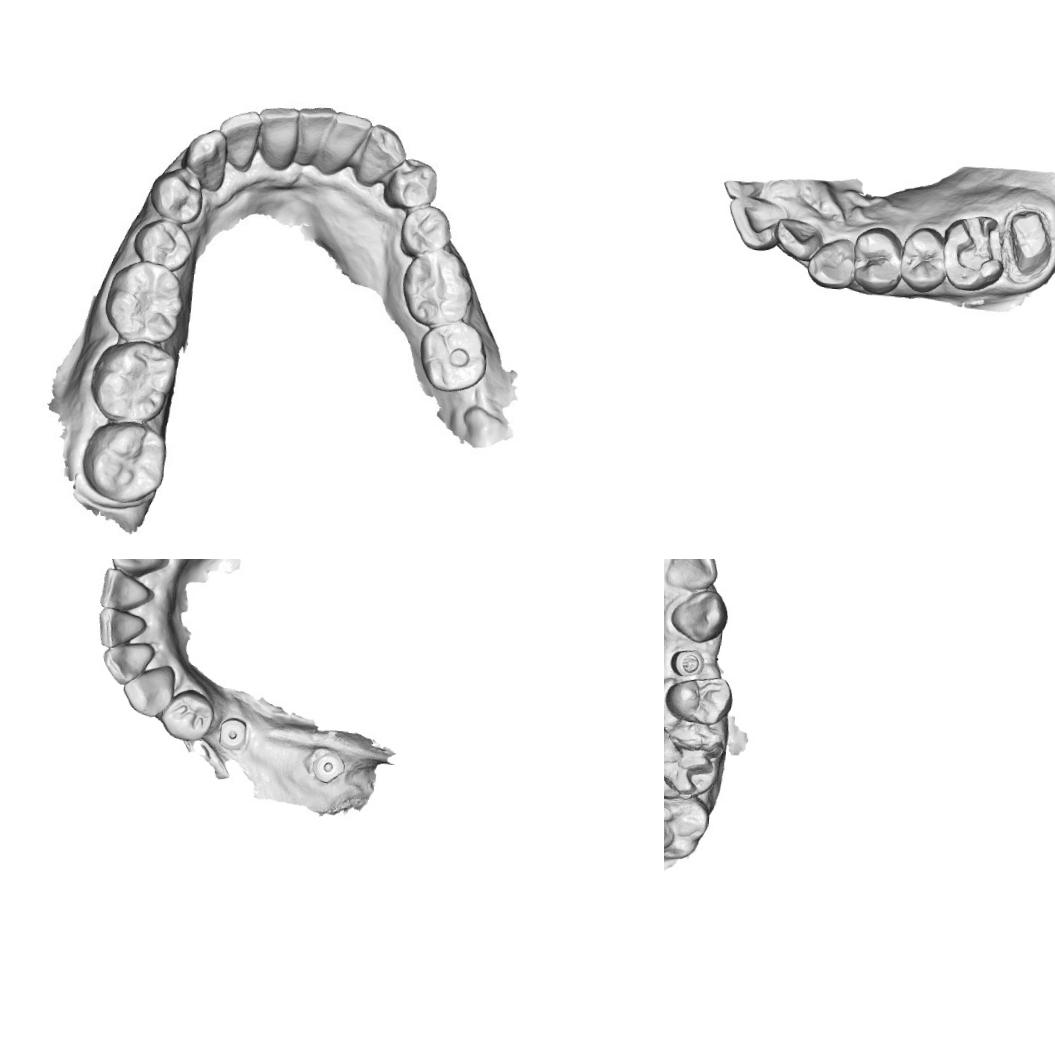canine: (352, 119, 410, 189), (667, 586, 730, 645), (118, 659, 176, 720), (180, 128, 232, 192), (805, 233, 858, 291), (106, 559, 171, 579)
crown: (1001, 204, 1055, 278)
implant: (308, 748, 346, 786), (216, 714, 249, 753), (668, 646, 707, 678)
incisor: (724, 194, 792, 253), (100, 637, 156, 688), (95, 566, 156, 612), (324, 110, 366, 175), (296, 104, 335, 171), (218, 111, 262, 170), (94, 604, 148, 652), (771, 214, 824, 262), (259, 106, 300, 168), (664, 559, 720, 593)
inlay: (664, 726, 724, 800), (951, 214, 1006, 279)
molar: (85, 421, 167, 507), (92, 338, 170, 421), (108, 260, 180, 346), (404, 248, 477, 328), (416, 322, 488, 398), (664, 792, 710, 862)
premolar: (848, 224, 906, 296), (664, 672, 734, 728), (896, 224, 950, 294), (156, 684, 216, 746), (150, 164, 206, 226), (401, 202, 457, 258), (136, 216, 192, 270), (388, 158, 437, 208)
